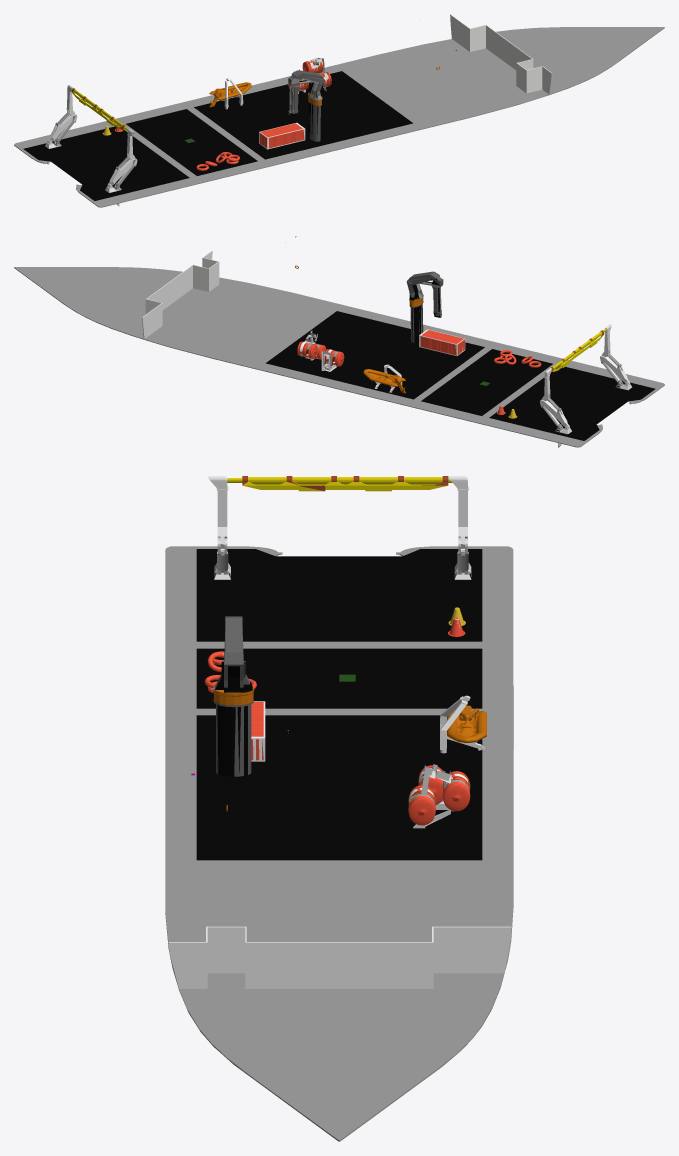
The model's file is havyard2_main_deck2.dae.
3 views of the same model, one above another, from view 1: azimuth 30°, elevation 25°; view 2: azimuth 150°, elevation 25°; view 3: azimuth 270°, elevation 25° (orthographic). The views are drawn at different scales.
Visible parts, largest first — view 1: node8.001, node1.001, node2.004, node0.005, RCRV Sparse.074, Container 1.001, Effer Crane Left.001, Effer Crane Left, node4.001, Effer Crane Middle, Work Boat; view 2: node8.001, node1.001, node2.004, node0.005, RCRV Sparse.074, Container 1.001, Effer Crane Left, Effer Crane Left.001, node4.001, Effer Crane Middle, Work Boat; view 3: node8.001, node1.001, node2.004, node0.005, RCRV Sparse.074, Effer Crane Middle, node4.001, Effer Crane Left.001, Effer Crane Left, Work Boat.
Boxes of the visible parts, left/top/right/bottom form: node8.001: left=14, top=27, right=664, bottom=207; node1.001: left=23, top=109, right=257, bottom=200; node2.004: left=194, top=71, right=413, bottom=159; node0.005: left=450, top=14, right=552, bottom=94; RCRV Sparse.074: left=288, top=70, right=324, bottom=141; Container 1.001: left=259, top=122, right=305, bottom=149; Effer Crane Left.001: left=105, top=129, right=137, bottom=206; Effer Crane Left: left=45, top=85, right=77, bottom=148; node4.001: left=123, top=124, right=196, bottom=177; Effer Crane Middle: left=71, top=88, right=127, bottom=130; Work Boat: left=209, top=82, right=251, bottom=100; node8.001: left=14, top=267, right=664, bottom=447; node1.001: left=421, top=349, right=655, bottom=440; node2.004: left=266, top=311, right=484, bottom=399; node0.005: left=142, top=250, right=219, bottom=339; RCRV Sparse.074: left=406, top=271, right=443, bottom=342; Container 1.001: left=419, top=329, right=465, bottom=356; Effer Crane Left: left=540, top=368, right=571, bottom=447; Effer Crane Left.001: left=600, top=324, right=632, bottom=390; node4.001: left=482, top=364, right=556, bottom=417; Effer Crane Middle: left=551, top=328, right=606, bottom=371; Work Boat: left=363, top=369, right=405, bottom=386; node8.001: left=165, top=546, right=513, bottom=1141; node1.001: left=196, top=549, right=482, bottom=708; node2.004: left=196, top=715, right=482, bottom=860; node0.005: left=168, top=926, right=511, bottom=988; RCRV Sparse.074: left=213, top=616, right=254, bottom=776; Effer Crane Middle: left=227, top=476, right=452, bottom=491; node4.001: left=196, top=641, right=482, bottom=648; Effer Crane Left.001: left=207, top=476, right=230, bottom=579; Effer Crane Left: left=448, top=476, right=471, bottom=579; Work Boat: left=447, top=708, right=486, bottom=742.
Size of the model in its own units: 1.38 by 0.3424 by 0.2151.
